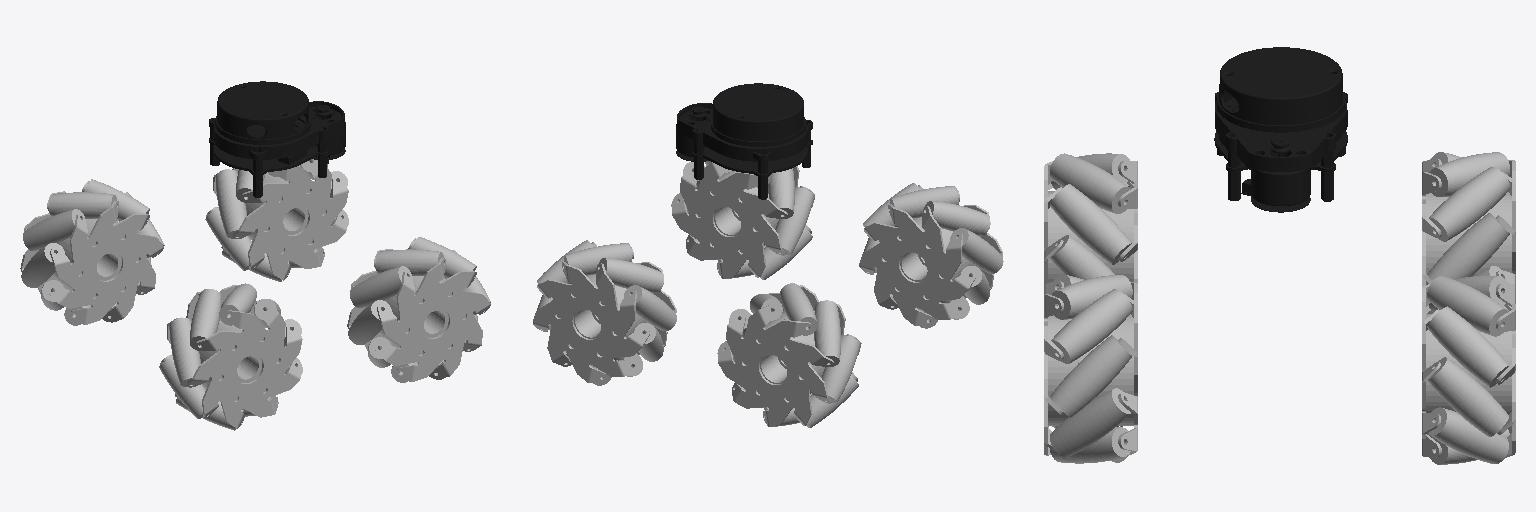
URDF robot description (nexus):
<?xml version="1.0" encoding="utf-8"?>
<!-- =================================================================================== -->
<!-- |    This document was autogenerated by xacro from rubot_mecanum.xacro            | -->
<!-- |    EDITING THIS FILE BY HAND IS NOT RECOMMENDED                                 | -->
<!-- =================================================================================== -->
<robot name="nexus">
  <material name="yellow">
    <color rgba="0.8 0.8 0.0 1.0"/>
  </material>
  <material name="black">
    <color rgba="0.15 0.15 0.15 1.0"/>
  </material>
  <material name="dark_grey">
    <color rgba="0.2 0.2 0.2 1.0"/>
  </material>
  <material name="light_grey">
    <color rgba="0.75 0.75 0.75 1.0"/>
  </material>

<!-- base_footprint reference frame without inertia is needed -->
  <link name="base_footprint"/>
<!-- base_link -->
  <joint name="base_link_joint" type="fixed">
    <origin rpy="0 0 0" xyz="0 0 0"/>
    <parent link="base_footprint"/>
    <child link="base_link"/>
  </joint>
  <link name="base_link">
    <visual>
      <origin rpy="0 0 0" xyz="0 0 0"/>
      <geometry>
        <mesh filename="package://rubot_mecanum_description/meshes/rubot/base_link.stl" scale="0.001 0.001 0.001"/>
      </geometry>
      <material name="yellow"/>
    </visual>
    <collision>
      <origin xyz="0 0 0"/>
      <geometry>
        <box size="0.1 0.1 0.35"/>
      </geometry>
    </collision>
    <inertial>
      <origin rpy="0 0 0" xyz="0 0 0"/>
      <mass value="5"/>
      <inertia ixx="0.55208333333333325" ixy="0" ixz="0" iyy="0.55208333333333325" iyz="0" izz="0.08333333333333335"/>
    </inertial>
  </link>
<!-- upper_left_wheel -->
  <joint name="upper_left_wheel_joint" type="continuous">
    <origin rpy="0 0 0" xyz="0.07 0.1 0"/>
    <parent link="base_link"/>
    <child link="upper_left_wheel"/>
    <axis xyz="0 1 0"/>
  </joint>
  <link name="upper_left_wheel">
    <visual>
      <origin rpy="0 0 0" xyz="0 0 0"/>
      <geometry>
        <mesh filename="package://rubot_mecanum_description/meshes/rubot/upper_left_wheel.stl" scale="0.001 0.001 0.001"/>
      </geometry>
      <material name="light_grey"/>
    </visual>
    <collision>
      <origin rpy="0 0 0" xyz="0 0 0"/>
      <geometry>
        <mesh filename="package://rubot_mecanum_description/meshes/rubot/upper_left_wheel.stl" scale="0.001 0.001 0.001"/>
      </geometry>
    </collision>
    <inertial>
      <origin rpy="0 0 0" xyz="0.0 0.0 0.0"/>
      <mass value="0.055"/>
      <inertia ixx="0.00004583" ixy="0" ixz="0" iyy="0.00006875" iyz="0" izz="0.00004583"/>
    </inertial>
  </link>
<!-- lower_left_wheel -->
  <joint name="lower_left_wheel_joint" type="continuous">
    <origin rpy="0 0 0" xyz="-0.085 0.1 0"/>
    <parent link="base_link"/>
    <child link="lower_left_wheel"/>
    <axis xyz="0 1 0"/>
  </joint>
  <link name="lower_left_wheel">
    <visual>
      <origin rpy="0 0 0" xyz="0 0 0"/>
      <geometry>
        <mesh filename="package://rubot_mecanum_description/meshes/rubot/lower_left_wheel.stl" scale="0.001 0.001 0.001"/>
      </geometry>
      <material name="light_grey"/>
    </visual>
    <collision>
      <origin rpy="0 0 0" xyz="0 0 0"/>
      <geometry>
        <mesh filename="package://rubot_mecanum_description/meshes/rubot/lower_left_wheel.stl" scale="0.001 0.001 0.001"/>
      </geometry>
    </collision>
    <inertial>
      <origin rpy="0 0 0" xyz="0.0 0.0 0.0"/>
      <mass value="0.055"/>
      <inertia ixx="0.00004583" ixy="0" ixz="0" iyy="0.00006875" iyz="0" izz="0.00004583"/>
    </inertial>
  </link>
<!-- upper_right_wheel -->
  <joint name="upper_right_wheel_joint" type="continuous">
    <origin rpy="0 0 0" xyz="0.07 -0.1 0"/>
    <parent link="base_link"/>
    <child link="upper_right_wheel"/>
    <axis xyz="0 1 0"/>
  </joint>
  <link name="upper_right_wheel">
    <visual>
      <origin rpy="0 0 0" xyz="0 0 0"/>
      <geometry>
        <mesh filename="package://rubot_mecanum_description/meshes/rubot/upper_right_wheel.stl" scale="0.001 0.001 0.001"/>
      </geometry>
      <material name="light_grey"/>
    </visual>
    <collision>
      <origin rpy="0 0 0" xyz="0 0 0"/>
      <geometry>
        <mesh filename="package://rubot_mecanum_description/meshes/rubot/upper_right_wheel.stl" scale="0.001 0.001 0.001"/>
      </geometry>
    </collision>
    <inertial>
      <origin rpy="0 0 0" xyz="0.0 0.0 0.0"/>
      <mass value="0.055"/>
      <inertia ixx="0.00004583" ixy="0" ixz="0" iyy="0.00006875" iyz="0" izz="0.00004583"/>
    </inertial>
  </link>
<!-- lower_right_wheel -->
  <joint name="lower_right_wheel_joint" type="continuous">
    <origin rpy="0 0 0" xyz="-0.085 -0.1 0"/>
    <parent link="base_link"/>
    <child link="lower_right_wheel"/>
    <axis xyz="0 1 0"/>
  </joint>
  <link name="lower_right_wheel">
    <visual>
      <origin rpy="0 0 0" xyz="0 0 0"/>
      <geometry>
        <mesh filename="package://rubot_mecanum_description/meshes/rubot/lower_right_wheel.stl" scale="0.001 0.001 0.001"/>
      </geometry>
      <material name="light_grey"/>
    </visual>
    <collision>
      <origin rpy="0 0 0" xyz="0 0 0"/>
      <geometry>
        <mesh filename="package://rubot_mecanum_description/meshes/rubot/lower_right_wheel.stl" scale="0.001 0.001 0.001"/>
      </geometry>
    </collision>
    <inertial>
      <origin rpy="0 0 0" xyz="0.0 0.0 0.0"/>
      <mass value="0.055"/>
      <inertia ixx="0.00004583" ixy="0" ixz="0" iyy="0.00006875" iyz="0" izz="0.00004583"/>
    </inertial>
  </link> -->
<!-- 2D Camera as a mesh of actual PiCamera -->
  <joint name="joint_camera" type="fixed">
    <origin rpy="0 0 0" xyz="0.120 0.0 0.09"/>
    <parent link="base_link"/>
    <child link="camera"/>
    <axis xyz="0 1 0"/>
  </joint>
  <link name="camera">
    <visual>
      <origin rpy="0 0 0" xyz="0 0 0"/>
      <geometry>
        <mesh filename="package://rubot_mecanum_description/meshes/rubot/piCamera.stl" scale="0.001 0.001 0.001"/>
      </geometry>
      <material name="black"/>
    </visual>
    <collision>
      <origin rpy="0 1.570795 0" xyz="0 0 0"/>
      <geometry>
        <box size="0.075 0.075 0.025"/>
      </geometry>
    </collision>
    <inertial>
      <origin rpy="0 1.570795 0" xyz="0 0 0"/>
      <mass value="1"/>
      <inertia ixx="1e-6" ixy="0" ixz="0" iyy="1e-6" iyz="0" izz="1e-6"/>
    </inertial>
  </link>
  <!-- LIDAR base_scan -->
  <link name="base_scan">
    <visual>
      <origin rpy="0 0 3.14" xyz="0 0 0.0"/>
      <geometry>
        <mesh filename="package://rubot_mecanum_description/meshes/rubot/Lidar.stl" scale="0.001 0.001 0.001"/>
      </geometry>
      <material name="black"/>
    </visual>
    <collision>
      <origin rpy="0 0 0" xyz="0 0 0.04"/>
      <geometry>
        <cylinder length="0.01575" radius="0.0275"/>
      </geometry>
    </collision>
    <inertial>
      <origin rpy="0 0 0" xyz="0 0 0.4"/>
      <mass value="0.057"/>
      <inertia ixx="0.001" ixy="0.0" ixz="0.0" iyy="0.001" iyz="0.0" izz="0.001"/>
    </inertial>
  </link>
  <joint name="scan_joint" type="fixed">
    <axis xyz="0 0 1"/>
    <origin rpy="0 0 3.14" xyz="0 0 0.15"/>
    <parent link="base_link"/>
    <child link="base_scan"/>
  </joint>
  <!-- Mecanum drive controller -->
  <gazebo>
    <plugin name="Mecanum_controller" filename="libgazebo_ros_planar_move.so">
      <commandTopic>cmd_vel</commandTopic>
      <odometryTopic>odom</odometryTopic>
      <odometryFrame>odom</odometryFrame>
      <odometrySource>world</odometrySource>
      <publishOdomTF>true</publishOdomTF>
      <odometryRate>50.0</odometryRate>
      <robotBaseFrame>base_footprint</robotBaseFrame>
      <publishWheelTF>false</publishWheelTF>
      <publishTf>true</publishTf>
      <publishWheelJointState>true</publishWheelJointState>
    </plugin>
  </gazebo>
  <!-- 2D Camera controller -->
  <gazebo reference="camera">
    <sensor name="camera1" type="camera">
      <update_rate>30.0</update_rate>
      <camera name="front">
        <horizontal_fov>1.3962634</horizontal_fov>
        <image>
          <width>320</width>
          <height>240</height>
          <format>R8G8B8</format>
        </image>
        <clip>
          <near>0.02</near>
          <far>300</far>
        </clip>
      </camera>
      <plugin filename="libgazebo_ros_camera.so" name="camera_controller">
        <alwaysOn>true</alwaysOn>
        <visualize>false</visualize>
        <cameraName>rubot/camera1</cameraName>
        <imageTopicName>image_raw</imageTopicName>
        <cameraInfoTopicName>camera_info</cameraInfoTopicName>
        <frameName>camera</frameName>
        <hackBaseline>0.07</hackBaseline>
        <distortionK1>0.0</distortionK1>
        <distortionK2>0.0</distortionK2>
        <distortionK3>0.0</distortionK3>
        <distortionT1>0.0</distortionT1>
        <distortionT2>0.0</distortionT2>
      </plugin>
    </sensor>
  </gazebo>
  <!-- Laser Distance Sensor YDLIDAR X4 controller-->
  <gazebo reference="base_scan">
    <sensor name="lds_lfcd_sensor" type="ray">
      <pose>0 0 0 0 0 0</pose>
      <visualize>false</visualize>
      <update_rate>5</update_rate>
      <ray>
        <scan>
          <horizontal>
            <samples>720</samples>
            <resolution>1</resolution>
            <min_angle>0.0</min_angle>
            <max_angle>6.28319</max_angle>
          </horizontal>
        </scan>
        <range>
          <min>0.12</min>
          <max>10</max>
          <resolution>0.015</resolution>
        </range>
        <noise>
          <type>gaussian</type>
          <!-- Noise parameters based on published spec for YDLIDAR X4
              is 1.5% at half range 4m (= 60mm, "+-160mm" accuracy at max. range 8m).
              A mean of 0.0m and stddev of 0.020m will put 99.7% of samples
              within 0.16m of the true reading. -->
          <mean>0.0</mean>
          <stddev>0.02</stddev>
        </noise>
      </ray>
      <plugin filename="libgazebo_ros_laser.so" name="gazebo_ros_lds_lfcd_controller">
        <!-- topicName>/gopigo/scan</topicName -->
        <topicName>scan</topicName>
        <frameName>base_scan</frameName>
      </plugin>
    </sensor>
  </gazebo>
<!-- Gazebo colors have to be specified here with predefined Gazebo colors -->
  <gazebo reference="base_footprint">
    <material>Gazebo/Yellow</material>
    <gravity>true</gravity>
  </gazebo>
  <gazebo reference="base_link">
    <material>Gazebo/Yellow</material>
  </gazebo>
  <gazebo reference="base_scan">
    <material>Gazebo/DarkGrey</material>
  </gazebo>
  <gazebo reference="camera">
    <material>Gazebo/Green</material>
  </gazebo>
  <gazebo reference="upper_left_wheel">
    <material>Gazebo/Grey</material>
    <mu1>0.5</mu1>
    <mu2>0.5</mu2>
    <kp>500</kp>
    <kd>10</kd>
    <minDepth>0.001</minDepth>
    <maxVel>0.5</maxVel>
    <fdir1>1 0 0</fdir1>
  </gazebo>
  <gazebo reference="lower_left_wheel">
    <material>Gazebo/Grey</material>
    <mu1>0.5</mu1>
    <mu2>0.5</mu2>
    <kp>500</kp>
    <kd>10.0</kd>
    <minDepth>0.001</minDepth>
    <maxVel>0.5</maxVel>
    <fdir1>1 0 0</fdir1>
    <mu2>0.0</mu2>
  </gazebo>
  <gazebo reference="upper_right_wheel">
    <material>Gazebo/Grey</material>
    <mu1>0.5</mu1>
    <mu2>0.5</mu2>
    <kp>500</kp>
    <kd>10.0</kd>
    <minDepth>0.001</minDepth>
    <maxVel>0.5</maxVel>
    <fdir1>1 0 0</fdir1>
  </gazebo>
  <gazebo reference="lower_right_wheel">
    <material>Gazebo/Grey</material>
    <mu1>0.5</mu1>
    <mu2>0.5</mu2>
    <kp>500</kp>
    <kd>10.0</kd>
    <minDepth>0.001</minDepth>
    <maxVel>0.5</maxVel>
    <fdir1>1 0 0</fdir1>
  </gazebo>
</robot>

--- What the picture shows (computed from the rendered views, not written in the file) ---
Views: 3 orthographic renders of the robot side by side, from view 1: azimuth 30°, elevation 25°; view 2: azimuth 150°, elevation 25°; view 3: azimuth 270°, elevation 25°.
Model nexus with 8 links and 7 joints (4 continuous, 3 fixed), rooted at base_footprint, posed all joints at 0.
Links seen in each view (by area): view 1: lower_right_wheel, lower_left_wheel, upper_right_wheel, upper_left_wheel, base_scan; view 2: lower_left_wheel, lower_right_wheel, upper_left_wheel, upper_right_wheel, base_scan; view 3: base_scan, upper_left_wheel, upper_right_wheel, lower_left_wheel, lower_right_wheel.
Boxes of the visible links, box(x1,y1,x2,y2) form: lower_right_wheel: box(159, 283, 302, 430); lower_left_wheel: box(20, 179, 164, 325); upper_right_wheel: box(347, 237, 490, 382); upper_left_wheel: box(205, 159, 348, 281); base_scan: box(209, 81, 345, 197); lower_left_wheel: box(717, 283, 861, 427); lower_right_wheel: box(859, 183, 1003, 328); upper_left_wheel: box(533, 240, 676, 385); upper_right_wheel: box(671, 161, 814, 279); base_scan: box(676, 83, 812, 199); base_scan: box(1214, 47, 1347, 212); upper_left_wheel: box(1422, 276, 1515, 464); upper_right_wheel: box(1044, 274, 1137, 463); lower_left_wheel: box(1422, 152, 1515, 313); lower_right_wheel: box(1044, 153, 1137, 285).
Bounding box of the posed robot: 0.2575 × 0.252 × 0.1936 m (x, y, z).
5 mesh visuals loaded from 7 distinct referenced files (5 binary STL); not drawn: 2 (reference not matched to a file when rendering).
